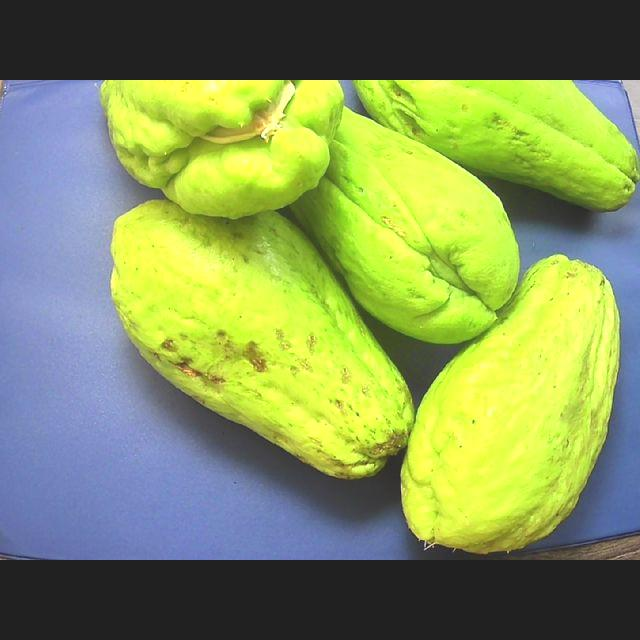chayote: (111, 200, 413, 478), (401, 255, 620, 553), (292, 108, 519, 343), (352, 80, 639, 209), (101, 80, 343, 218)
